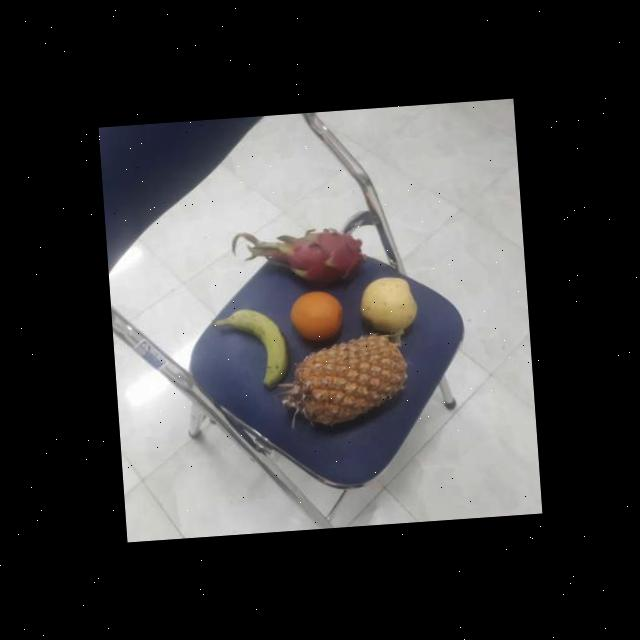banana: (222, 306, 294, 391)
orange: (287, 288, 350, 346)
pear: (354, 275, 420, 334)
pineapple: (286, 333, 406, 426)
pitaya: (268, 224, 366, 292)
